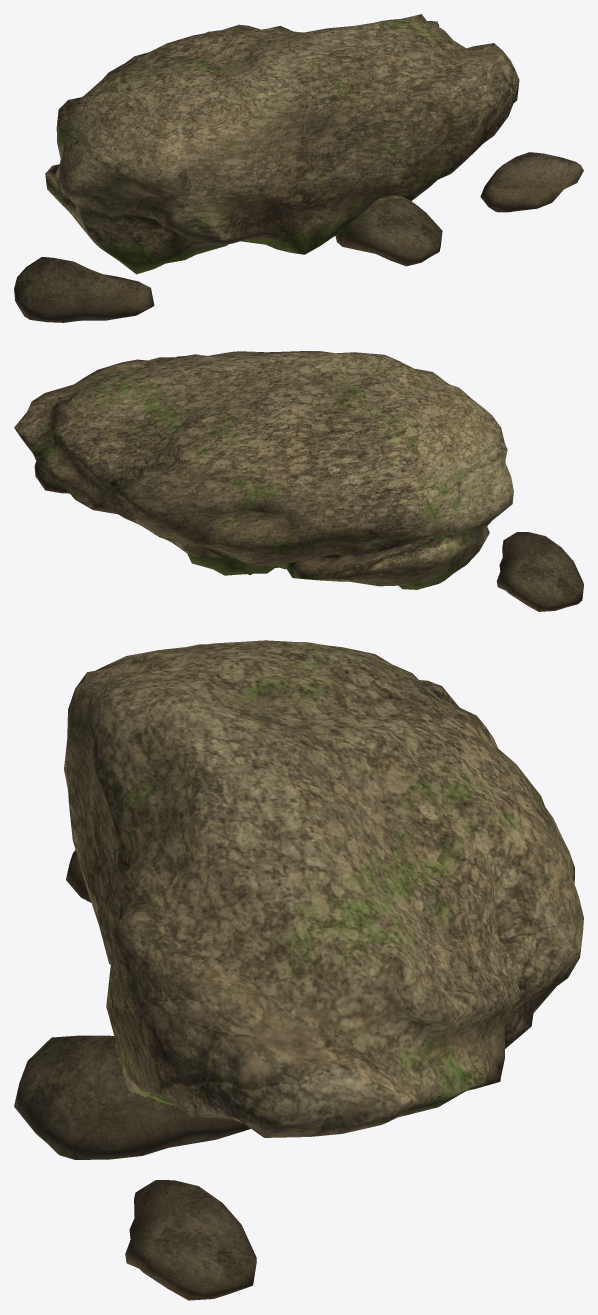
The model's file is mm6_deco_boulder02.glb.
3 views of the same model, one above another, from view 1: azimuth 30°, elevation 25°; view 2: azimuth 150°, elevation 25°; view 3: azimuth 270°, elevation 25° (orthographic). The views are drawn at different scales.
Parts seen in each view (by area): view 1: Boulder02; view 2: Boulder02; view 3: Boulder02.
Part boxes in pixels (x1,y1,x2,y2): Boulder02: (14,14,583,322); Boulder02: (14,351,583,611); Boulder02: (14,640,583,1300).
Size of the model in its own units: 1.43 by 0.4725 by 0.7197.
1 material, 1 textured.
